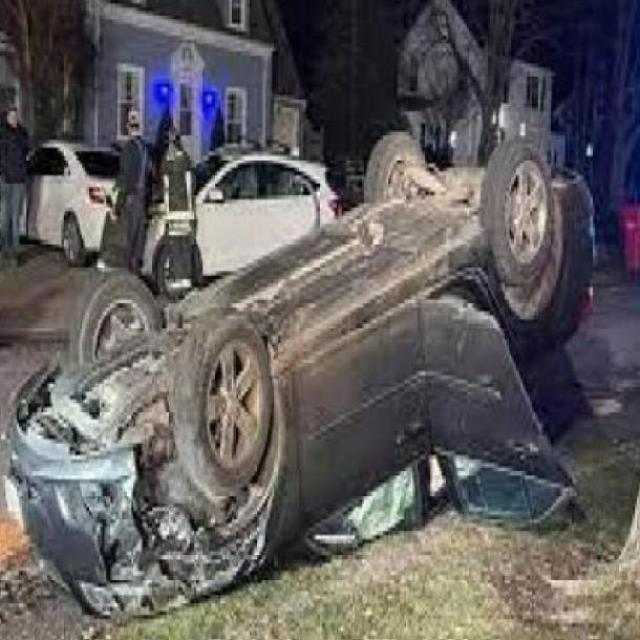accident: (6, 130, 596, 627)
